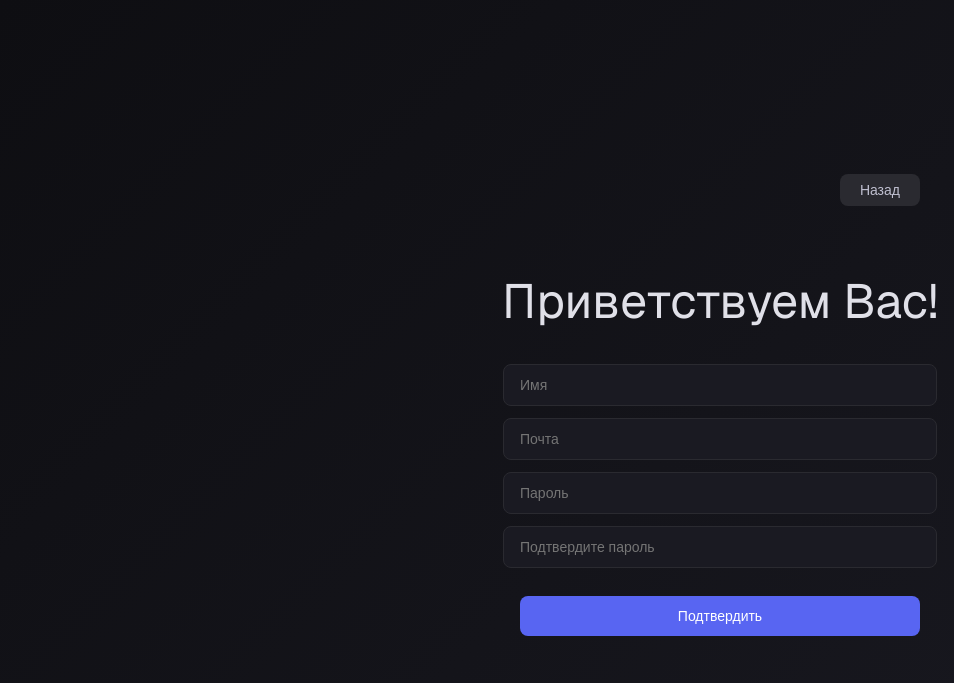
Scenario: Register_Page › shows error when passwords do not match
Type "password123" into the password field with placeholder "Пароль". click: (720, 493)
box: [503,472,937,514]
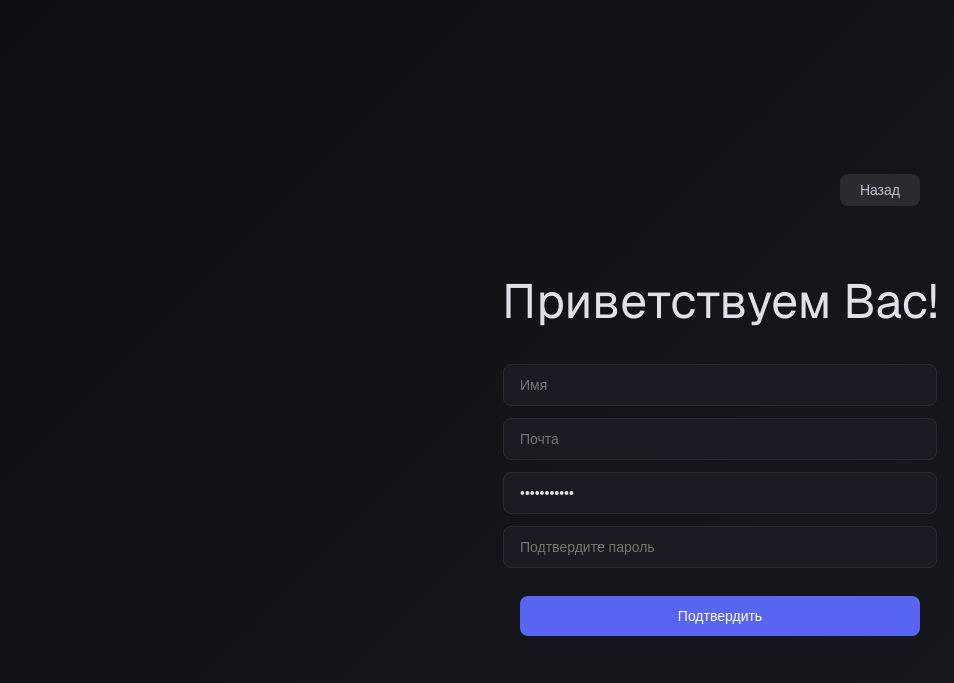
Type "different" into the password field with placeholder "Подтвердите пароль". click: (720, 547)
box: [503,526,937,568]
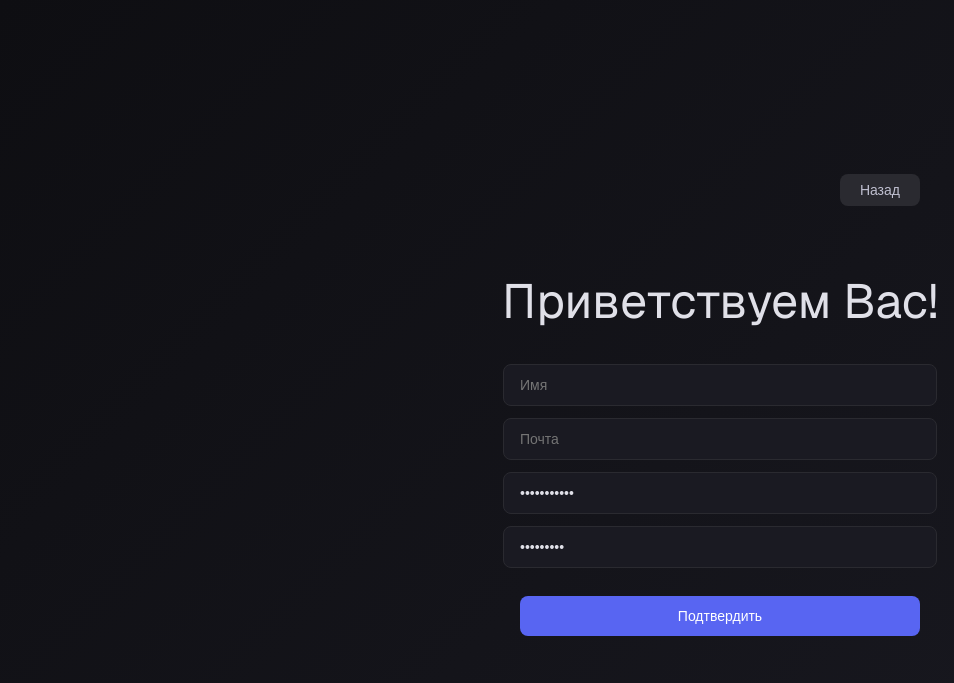
Используем submit на форме, а не клик по кнопке
Submit the form, box [520,364,920,636]
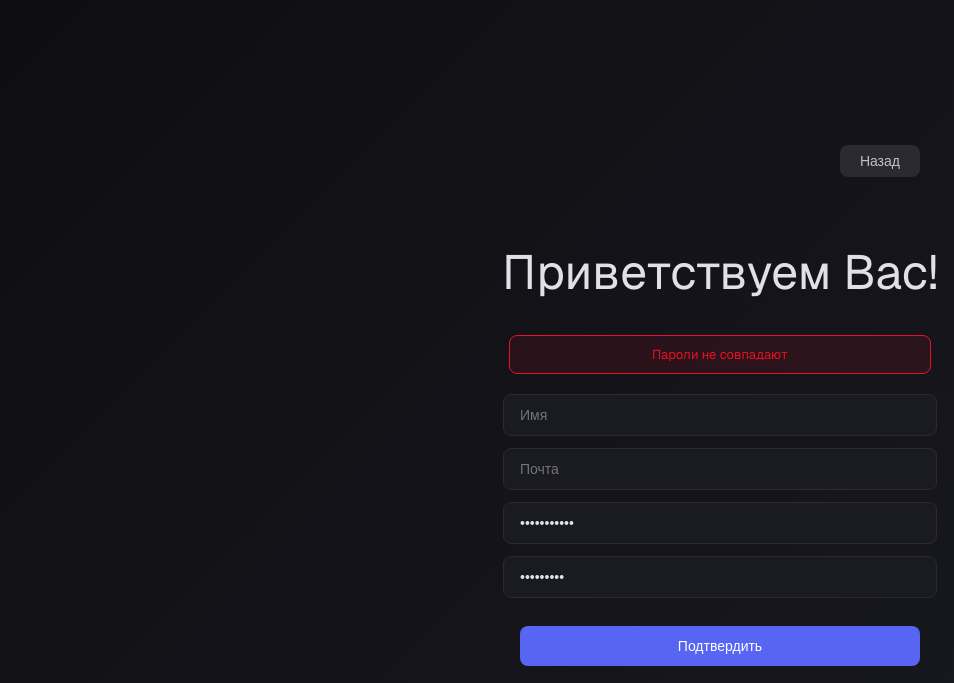
Now the text "Пароли не совпадают" is shown, box [509,334,931,374]
